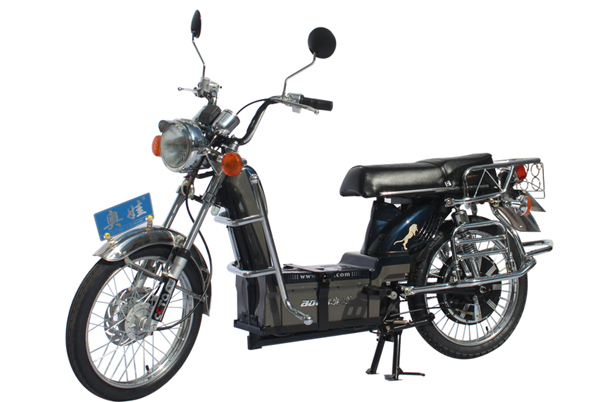电动车: (63, 5, 561, 401)
